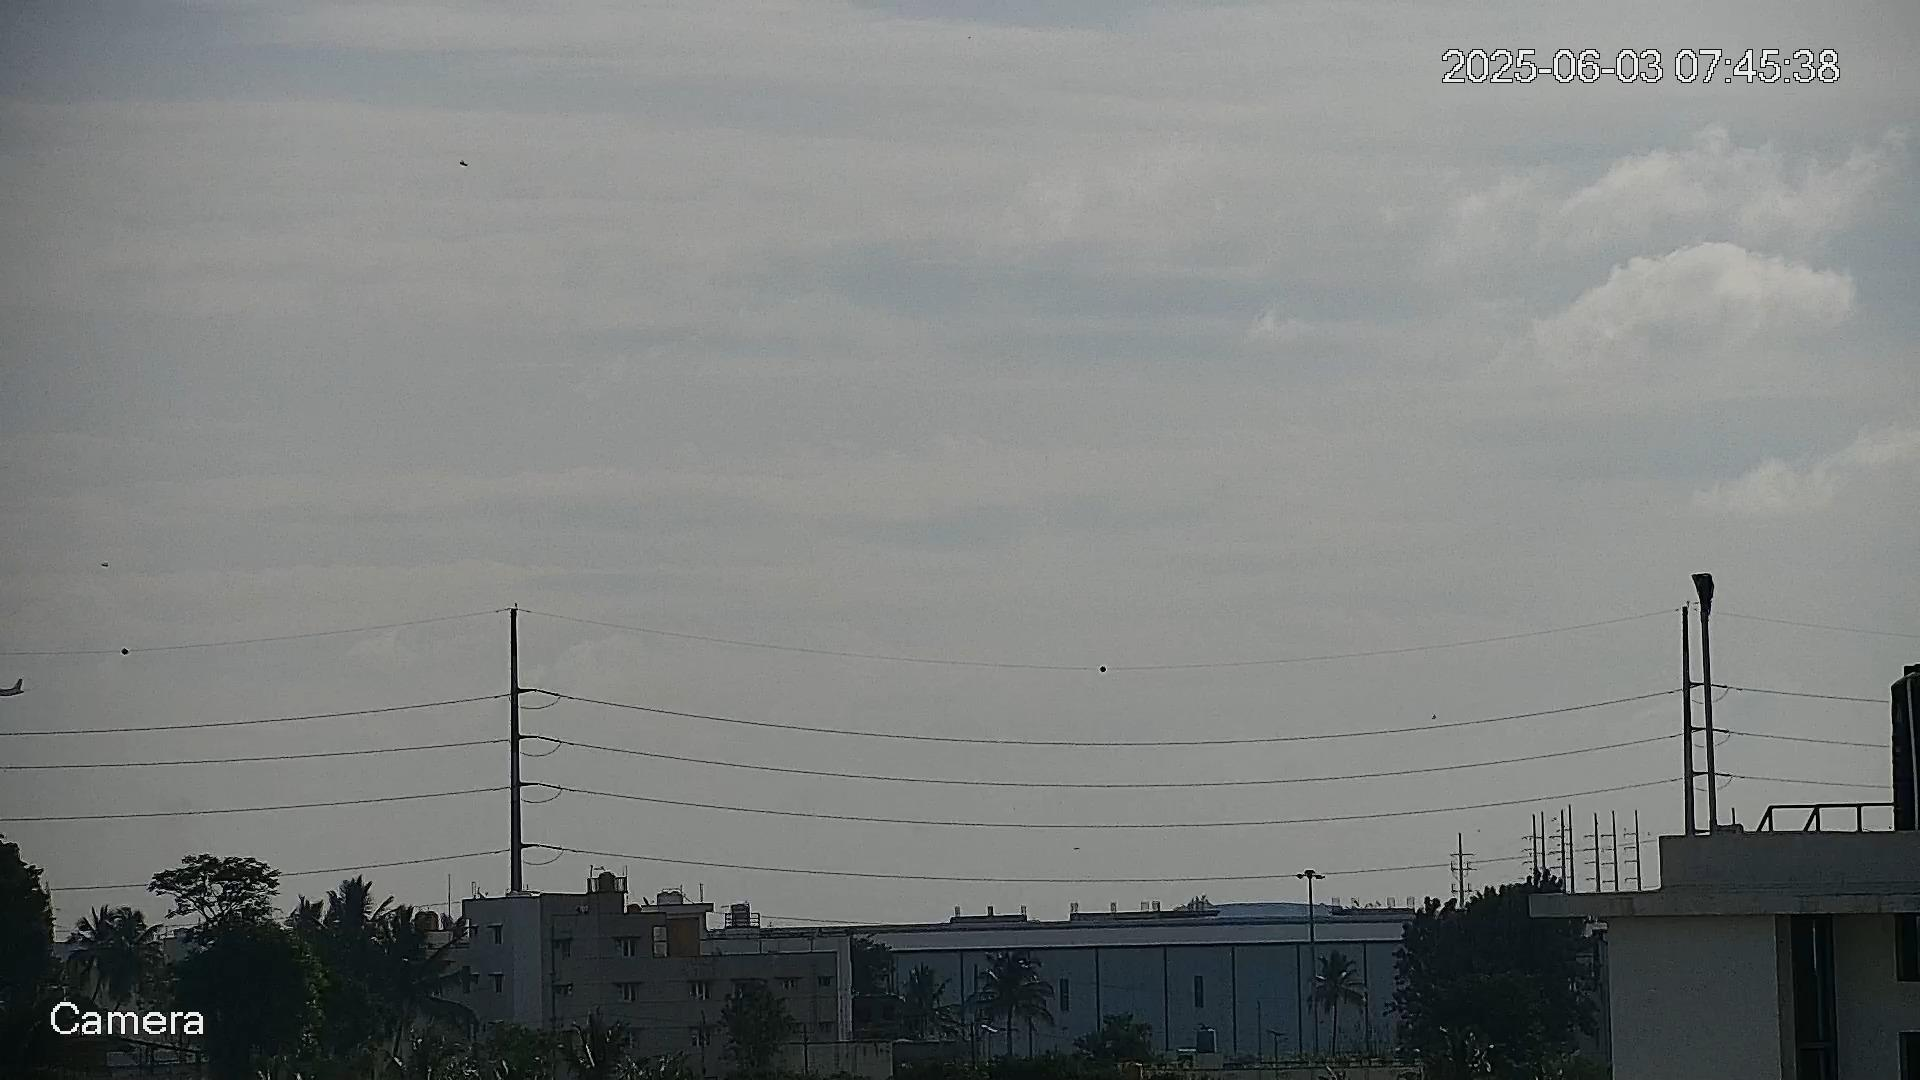Aircraft: (1, 674, 32, 695)
